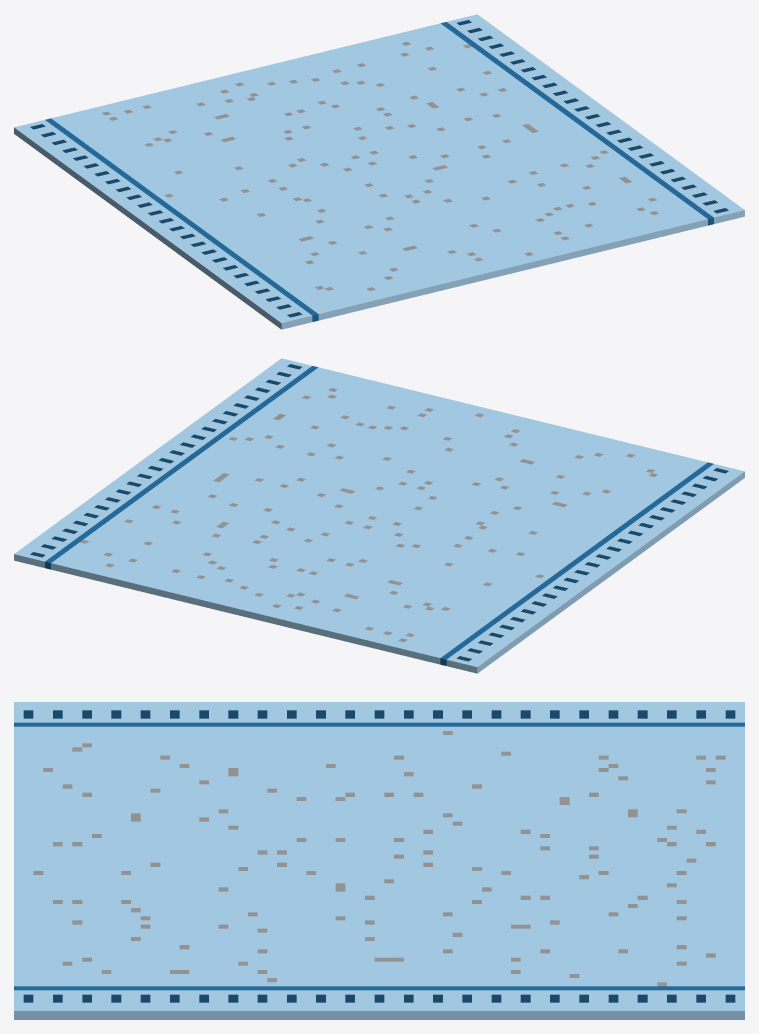
Rendered from straight_0-0.obj.
3 renders of one model, top to bottom at view 1: azimuth 30°, elevation 25°; view 2: azimuth 150°, elevation 25°; view 3: azimuth 270°, elevation 25°, orthographic. The views are drawn at different scales.
Visible parts, largest first — view 1: straight_0-0; view 2: straight_0-0; view 3: straight_0-0.
Part boxes in pixels (x1,y1,x2,y2): straight_0-0: (14, 14, 744, 329); straight_0-0: (14, 358, 744, 673); straight_0-0: (14, 702, 744, 1019).
Bounding box in the file's own units: 75 × 1 × 75.
Materials: 1 (1 with a texture image).
